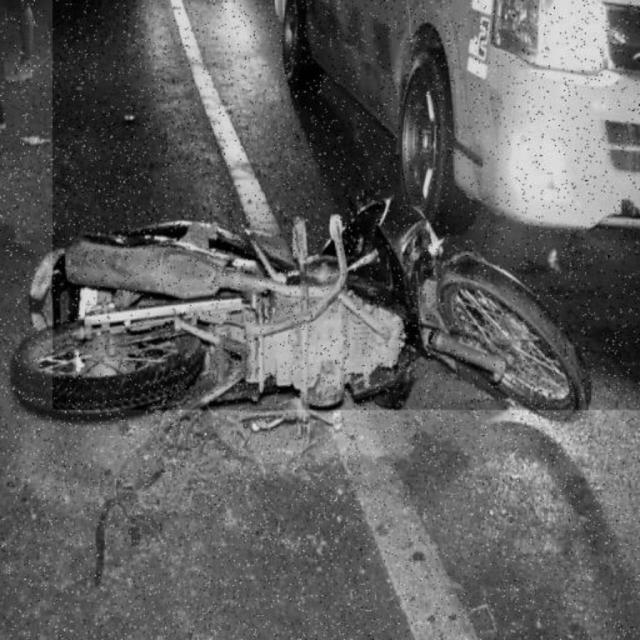accident: (52, 0, 640, 409)
